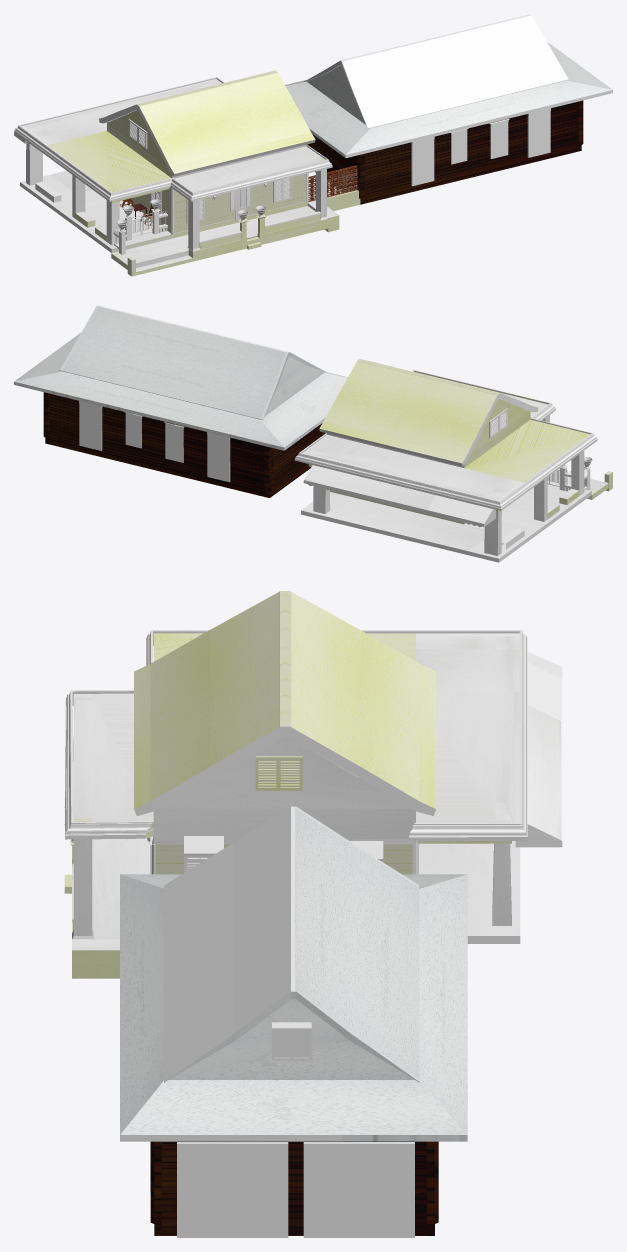
Rendered from casa_3.fbx.
The picture shows the model from 3 angles, top to bottom: view 1: azimuth 30°, elevation 25°; view 2: azimuth 150°, elevation 25°; view 3: azimuth 270°, elevation 25°; orthographic projection. The views are drawn at different scales.
Parts seen in each view (by area): view 1: casa trasera, casa delantera, casa delantera.001, Cube.001, puerta lisa.004, puerta lisa.005, puerta lisa.007, serca.001, puerta lisa.006, Plane.008, Plane.006, ventana peq de pali.001; view 2: casa trasera, casa delantera, casa delantera.001, Cube.001, puerta lisa.003, puerta lisa.002, puerta lisa.009, puerta lisa.008; view 3: casa trasera, casa delantera, casa delantera.001, Cube.004, Cube.005, Cube.001, ventana peq de pali, ventana.
Part boxes in pixels (<box>): casa trasera: <box>285,14,612,204</box>; casa delantera: <box>14,79,360,276</box>; casa delantera.001: <box>99,70,315,176</box>; Cube.001: <box>14,77,332,201</box>; puerta lisa.004: <box>411,136,434,186</box>; puerta lisa.005: <box>527,108,550,157</box>; puerta lisa.007: <box>489,119,509,158</box>; serca.001: <box>332,165,357,195</box>; puerta lisa.006: <box>450,128,468,164</box>; Plane.008: <box>230,187,251,220</box>; Plane.006: <box>273,177,291,202</box>; ventana peq de pali.001: <box>128,119,147,149</box>; casa trasera: <box>14,305,347,497</box>; casa delantera: <box>301,374,612,562</box>; casa delantera.001: <box>319,359,538,466</box>; Cube.001: <box>294,370,597,510</box>; puerta lisa.003: <box>207,432,230,482</box>; puerta lisa.002: <box>79,401,102,450</box>; puerta lisa.009: <box>164,422,184,462</box>; puerta lisa.008: <box>124,412,142,448</box>; casa trasera: <box>120,806,467,1235</box>; casa delantera: <box>64,633,562,978</box>; casa delantera.001: <box>134,591,436,815</box>; Cube.004: <box>177,1142,288,1237</box>; Cube.005: <box>303,1142,414,1237</box>; Cube.001: <box>65,630,527,841</box>; ventana peq de pali: <box>255,756,302,790</box>; ventana: <box>272,1022,311,1060</box>.
Bounding box in the file's own units: 19435 × 4554 × 8425.
